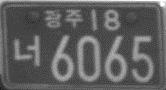0: (76, 34, 101, 81)
1: (90, 7, 99, 32)
5: (130, 35, 155, 85)
6: (50, 34, 75, 83), (103, 34, 127, 82)
8: (103, 8, 120, 32)
광주_O: (44, 8, 84, 29)
너: (13, 34, 41, 68)
